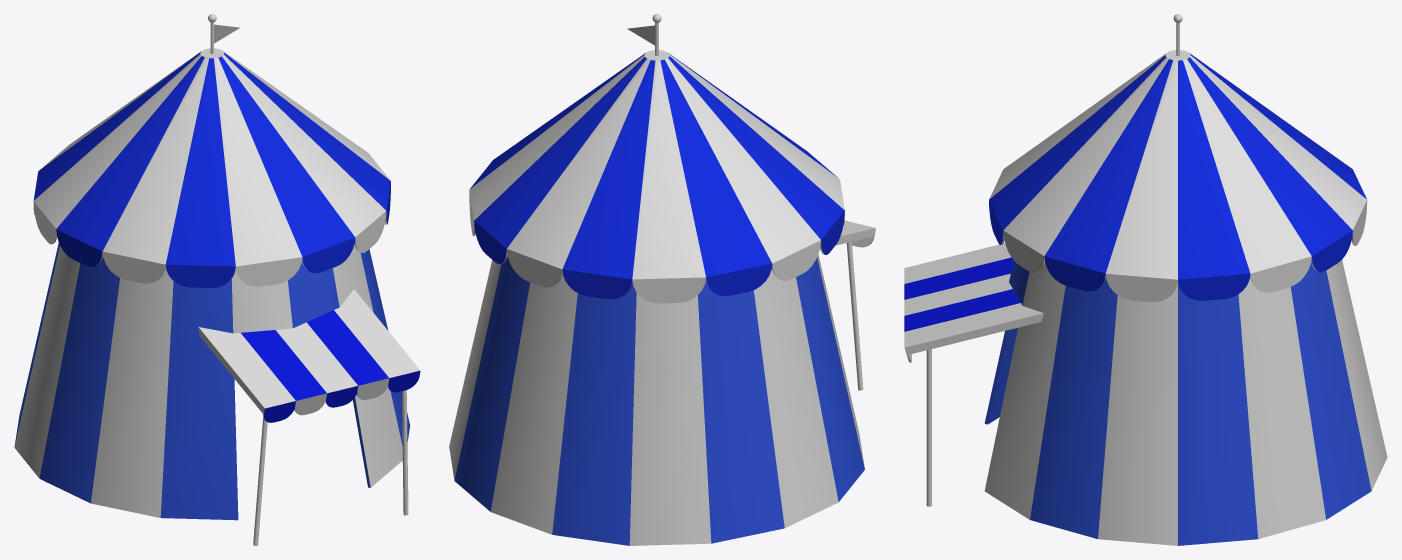
File: boothtent_lowpoly.fbx
3 views of the same model, side by side, from view 1: azimuth 30°, elevation 25°; view 2: azimuth 150°, elevation 25°; view 3: azimuth 270°, elevation 25° (orthographic). The views are drawn at different scales.
Visible parts, largest first — view 1: polySurface14, polySurface13, pCube12, pCube11, pCube10, pCube9, pCube8, polySurface419, polySurface418; view 2: polySurface13, polySurface14, polySurface419, pCube12; view 3: polySurface13, polySurface14, pCube11, pCube10, pCube9, pCube8, pCube12, polySurface418.
Boxes of the visible parts, box(x1,y1,x2,y2) form: polySurface14: box(33, 48, 390, 287); polySurface13: box(14, 242, 410, 520); pCube12: box(198, 327, 295, 422); pCube11: box(334, 289, 420, 392); pCube10: box(307, 310, 389, 399); pCube9: box(241, 330, 326, 415); pCube8: box(276, 322, 358, 407); polySurface419: box(253, 417, 267, 545); polySurface418: box(401, 390, 408, 515); polySurface13: box(449, 254, 864, 545); polySurface14: box(469, 50, 844, 303); polySurface419: box(846, 242, 863, 390); pCube12: box(820, 220, 875, 248); polySurface13: box(984, 260, 1387, 545); polySurface14: box(989, 50, 1367, 302); pCube11: box(904, 303, 1043, 362); pCube10: box(904, 289, 1020, 331); pCube9: box(904, 257, 1013, 299); pCube8: box(904, 273, 1012, 315); pCube12: box(904, 243, 1011, 283); polySurface418: box(926, 349, 931, 506).
Size of the model in its own units: 20.23 by 24.14 by 23.33.
